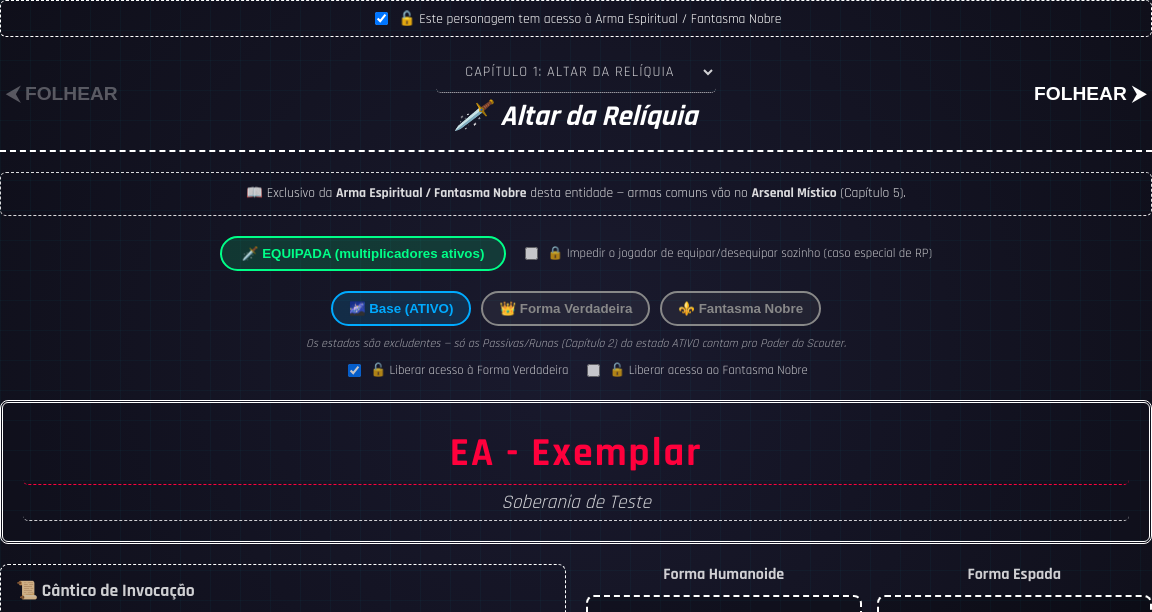
it: RelicarioPanel — Capítulos 1-4 (Arma Espiritual) ficam bloqueados para quem NÃO é Mestre/Co-Mestre › Capítulo 2 (Estigmas & Runas): isMestre=true mostra "+ Inscrever" (x2) e "✖" (x2) e habilita os textareas
The image size is (1152, 612).
Select "CAPÍTULO 2: ESTIGMAS & RUNAS" in the dropdown at (576, 72), box [436,52,716,93]
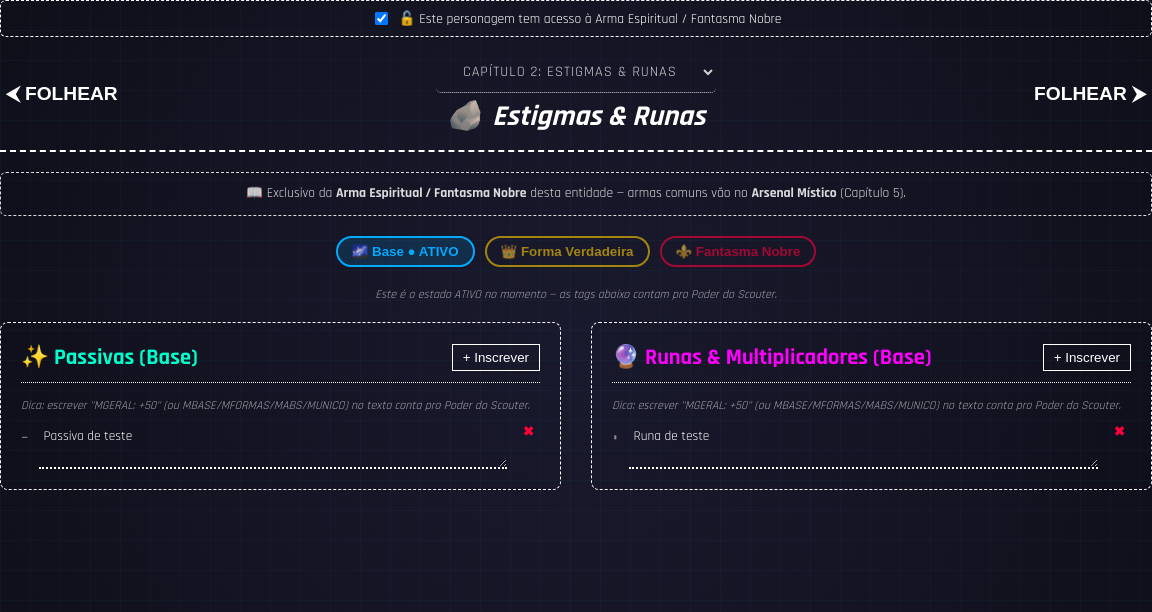
expect the checkbox is enabled: met, box [374,12,388,25]
expect the number of buttons "+ Inscrever" is 2: met, box [452,344,540,371]; [1043,344,1131,371]
expect the number of buttons "✖" is 2: met, box [517,423,540,440]; [1108,423,1131,440]
